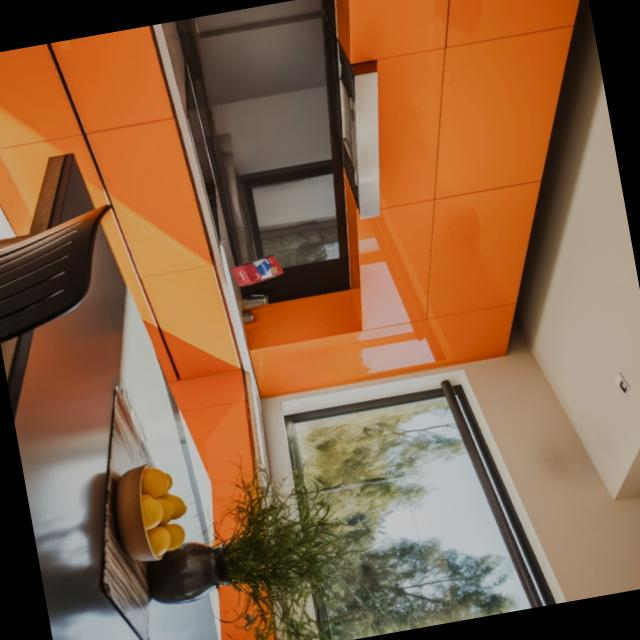mate bag: (230, 253, 287, 285)
